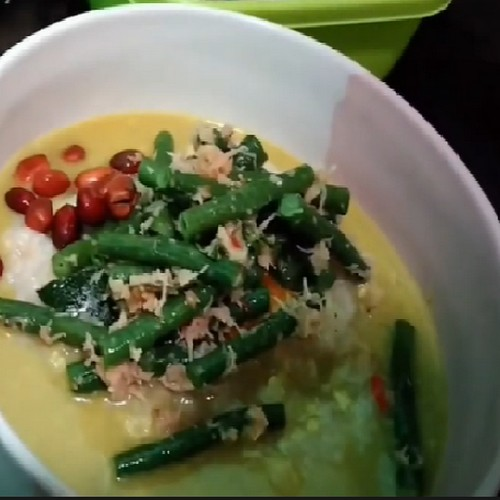bubur mengguh: (19, 99, 448, 485)
